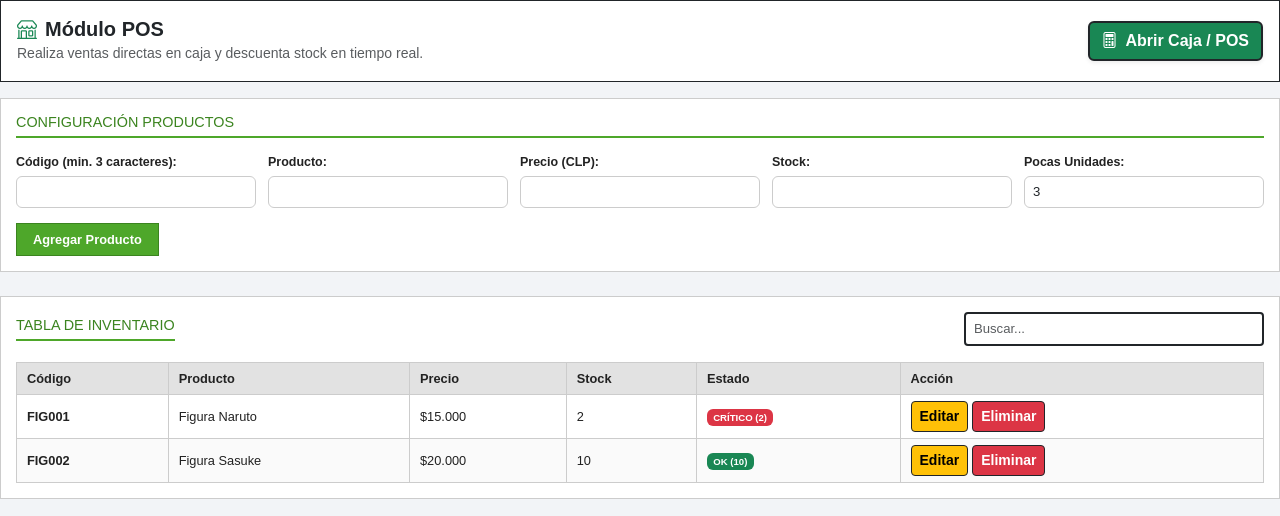
GestionProductos › carga los datos al seleccionar Editar
Click the button "Editar" in the row of "FIG001".
click(939, 416)  # box [910,401,968,432]
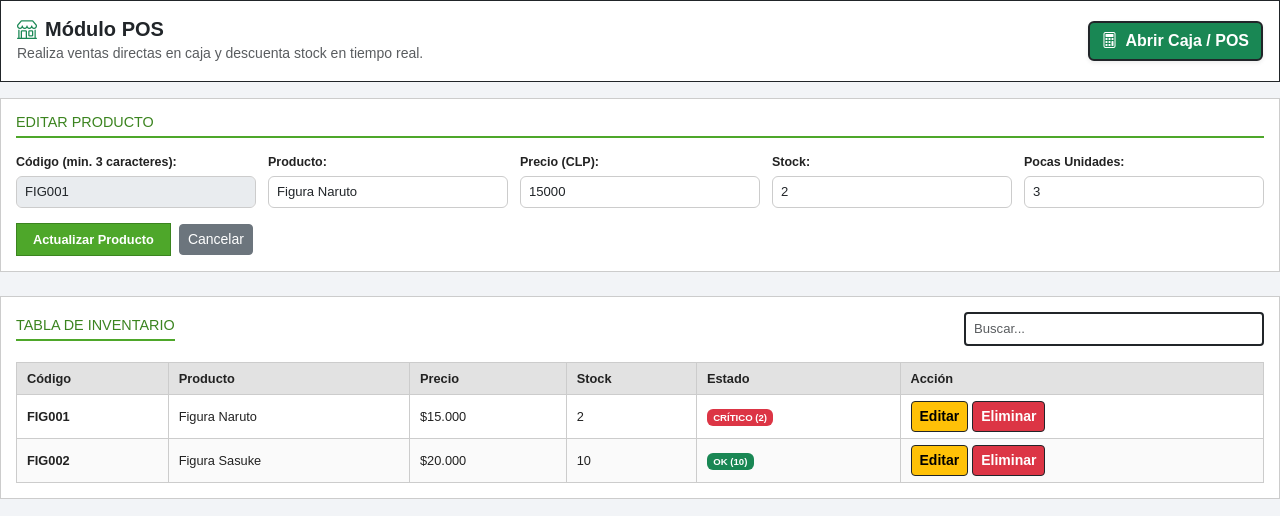
Now the heading "Editar Producto" is shown, box [16,114,1264,138]
Now the field below "Código (min. 3 caracteres):" holds "FIG001", box [16,176,256,208]
Now the field below "Producto:" holds "Figura Naruto", box [268,176,508,208]
